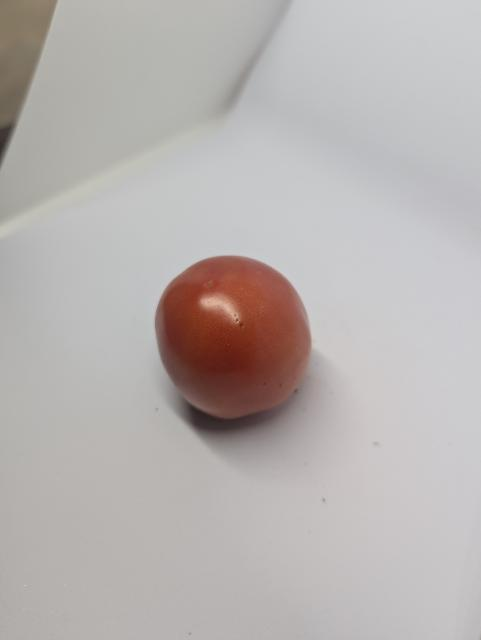red: (150, 250, 314, 426)
